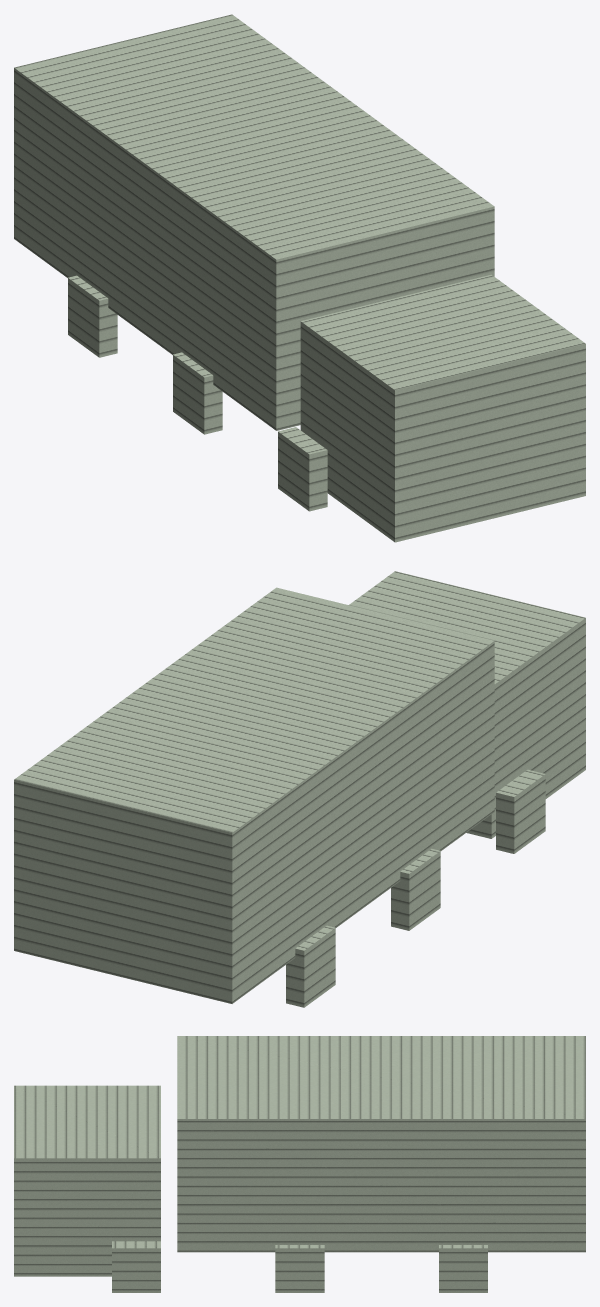
The model's file is vehicle_municipal_snowplow_dump_truck.glb.
The picture shows the model from 3 angles, top to bottom: view 1: azimuth 30°, elevation 25°; view 2: azimuth 150°, elevation 25°; view 3: azimuth 270°, elevation 25°; orthographic projection. The views are drawn at different scales.
Parts seen in each view (by area): view 1: vehicle_municipal_snowplow_dump_truck-col; view 2: vehicle_municipal_snowplow_dump_truck-col; view 3: vehicle_municipal_snowplow_dump_truck-col.
Boxes of the visible parts, x1,y1,x2,y2 form: vehicle_municipal_snowplow_dump_truck-col: (14, 14, 585, 542); vehicle_municipal_snowplow_dump_truck-col: (14, 571, 585, 1007); vehicle_municipal_snowplow_dump_truck-col: (14, 1036, 585, 1292).
Size of the model in its own units: 2.6 by 2.3 by 7.
Materials: 1 (1 with a texture image).
